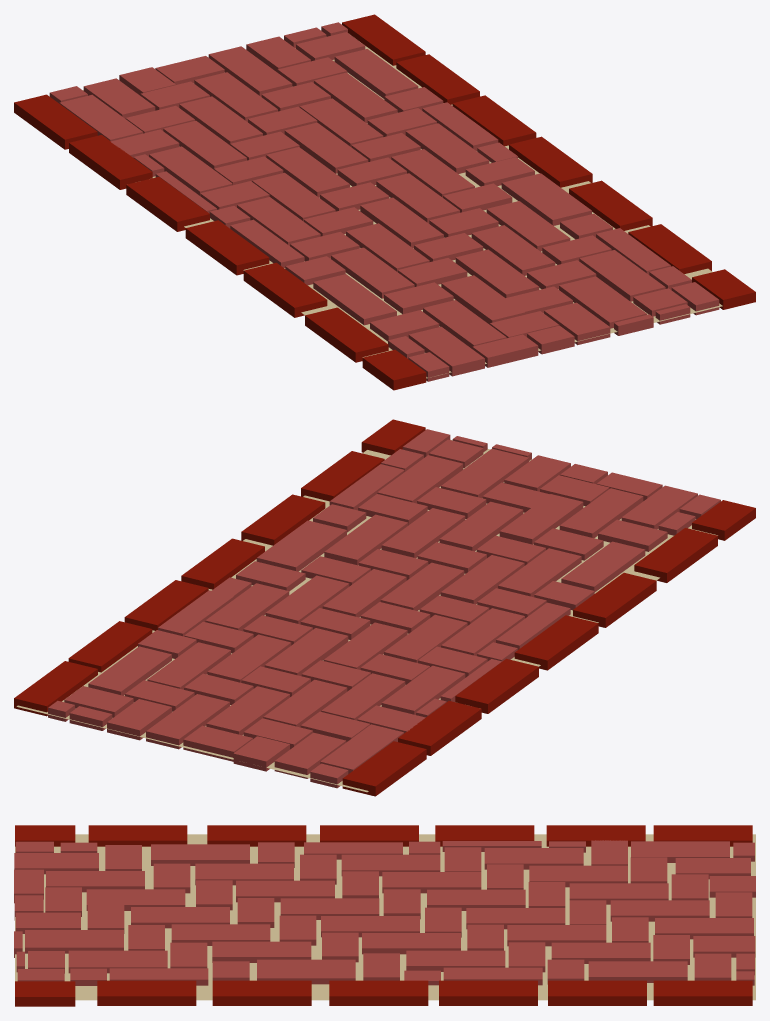
Rendered from BrickMiddle.fbx.
3 renders of one model, top to bottom at view 1: azimuth 30°, elevation 25°; view 2: azimuth 150°, elevation 25°; view 3: azimuth 270°, elevation 25°, orthographic. The views are drawn at different scales.
Parts seen in each view (by area): view 1: Cube.032, Cube.048, Cube.047, Cube.046, Cube.049, Cube.045, Cube.044, Cube.088, Cube.058, Cube.059, Cube.076, Cube.086 (+75 smaller); view 2: Cube.044, Cube.032, Plane, Cube.047, Cube.049, Cube.048, Cube.046, Cube.045, Cube.055, Cube.037, Cube.088, Cube.059 (+76 smaller); view 3: Plane, Cube.055, Cube.058, Cube.059, Cube.060, Cube.056, Cube.057, Cube.032, Cube.088, Cube.049, Cube.071, Cube.031 (+82 smaller).
Boxes of the visible parts, x1=… form: Cube.032: x1=501, y1=173, x2=591, y2=225; Cube.048: x1=243, y1=262, x2=327, y2=317; Cube.047: x1=185, y1=220, x2=269, y2=275; Cube.046: x1=126, y1=177, x2=209, y2=231; Cube.049: x1=305, y1=307, x2=388, y2=362; Cube.045: x1=69, y1=135, x2=152, y2=189; Cube.044: x1=14, y1=94, x2=97, y2=149; Cube.088: x1=559, y1=276, x2=646, y2=328; Cube.058: x1=509, y1=136, x2=592, y2=187; Cube.059: x1=569, y1=180, x2=652, y2=230; Cube.076: x1=313, y1=274, x2=396, y2=325; Cube.086: x1=579, y1=250, x2=665, y2=301; Cube.044: x1=342, y1=741, x2=426, y2=796; Cube.032: x1=256, y1=520, x2=346, y2=571; Plane: x1=16, y1=439, x2=717, y2=792; Cube.047: x1=514, y1=615, x2=598, y2=670; Cube.049: x1=634, y1=528, x2=717, y2=582; Cube.048: x1=573, y1=572, x2=656, y2=627; Cube.046: x1=455, y1=658, x2=538, y2=713; Cube.045: x1=398, y1=701, x2=481, y2=755; Cube.055: x1=14, y1=661, x2=97, y2=716; Cube.037: x1=146, y1=694, x2=229, y2=749; Cube.088: x1=441, y1=448, x2=528, y2=497; Cube.059: x1=241, y1=494, x2=325, y2=545; Plane: x1=15, y1=834, x2=755, y2=1000; Cube.055: x1=653, y1=980, x2=752, y2=1005; Cube.058: x1=329, y1=980, x2=428, y2=1005; Cube.059: x1=212, y1=980, x2=311, y2=1005; Cube.060: x1=97, y1=980, x2=196, y2=1005; Cube.056: x1=548, y1=980, x2=646, y2=1005; Cube.057: x1=439, y1=980, x2=537, y2=1005; Cube.032: x1=257, y1=959, x2=355, y2=984; Cube.088: x1=25, y1=930, x2=123, y2=953; Cube.049: x1=88, y1=825, x2=187, y2=846; Cube.071: x1=588, y1=961, x2=687, y2=982; Cube.031: x1=212, y1=941, x2=311, y2=962.
Size of the model in its own units: 822 by 25.77 by 1501.
